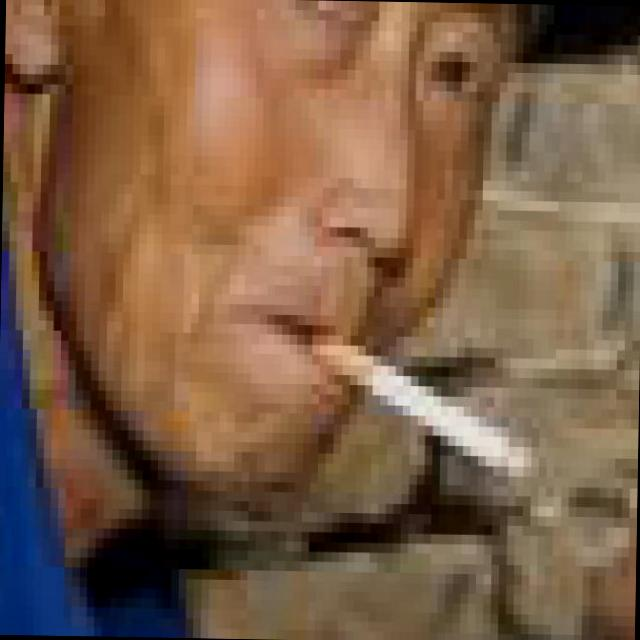cigarette: (286, 285, 542, 486)
